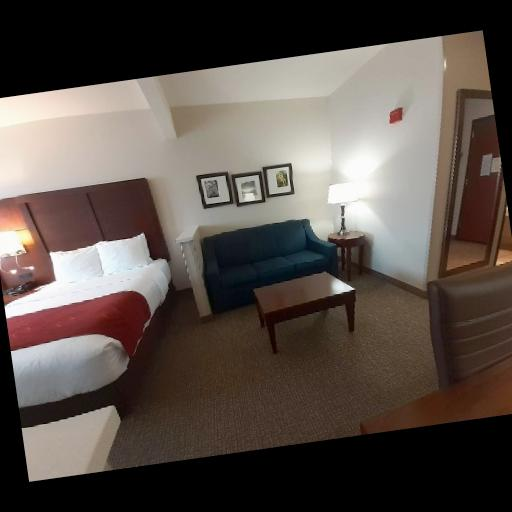chair: (409, 260, 512, 397)
clean_bed: (6, 173, 176, 426)
lamp: (318, 180, 366, 241)
organised_pillow: (44, 229, 153, 291)
organized table: (251, 269, 358, 358)
